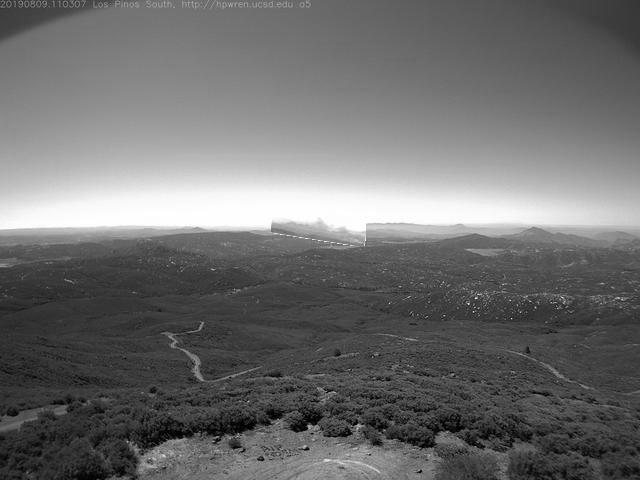smoke: (272, 212, 368, 245)
